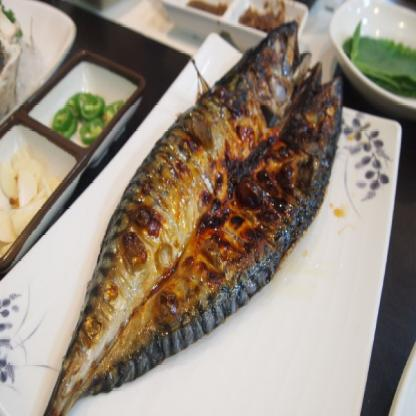Peixe: (38, 15, 352, 416)
